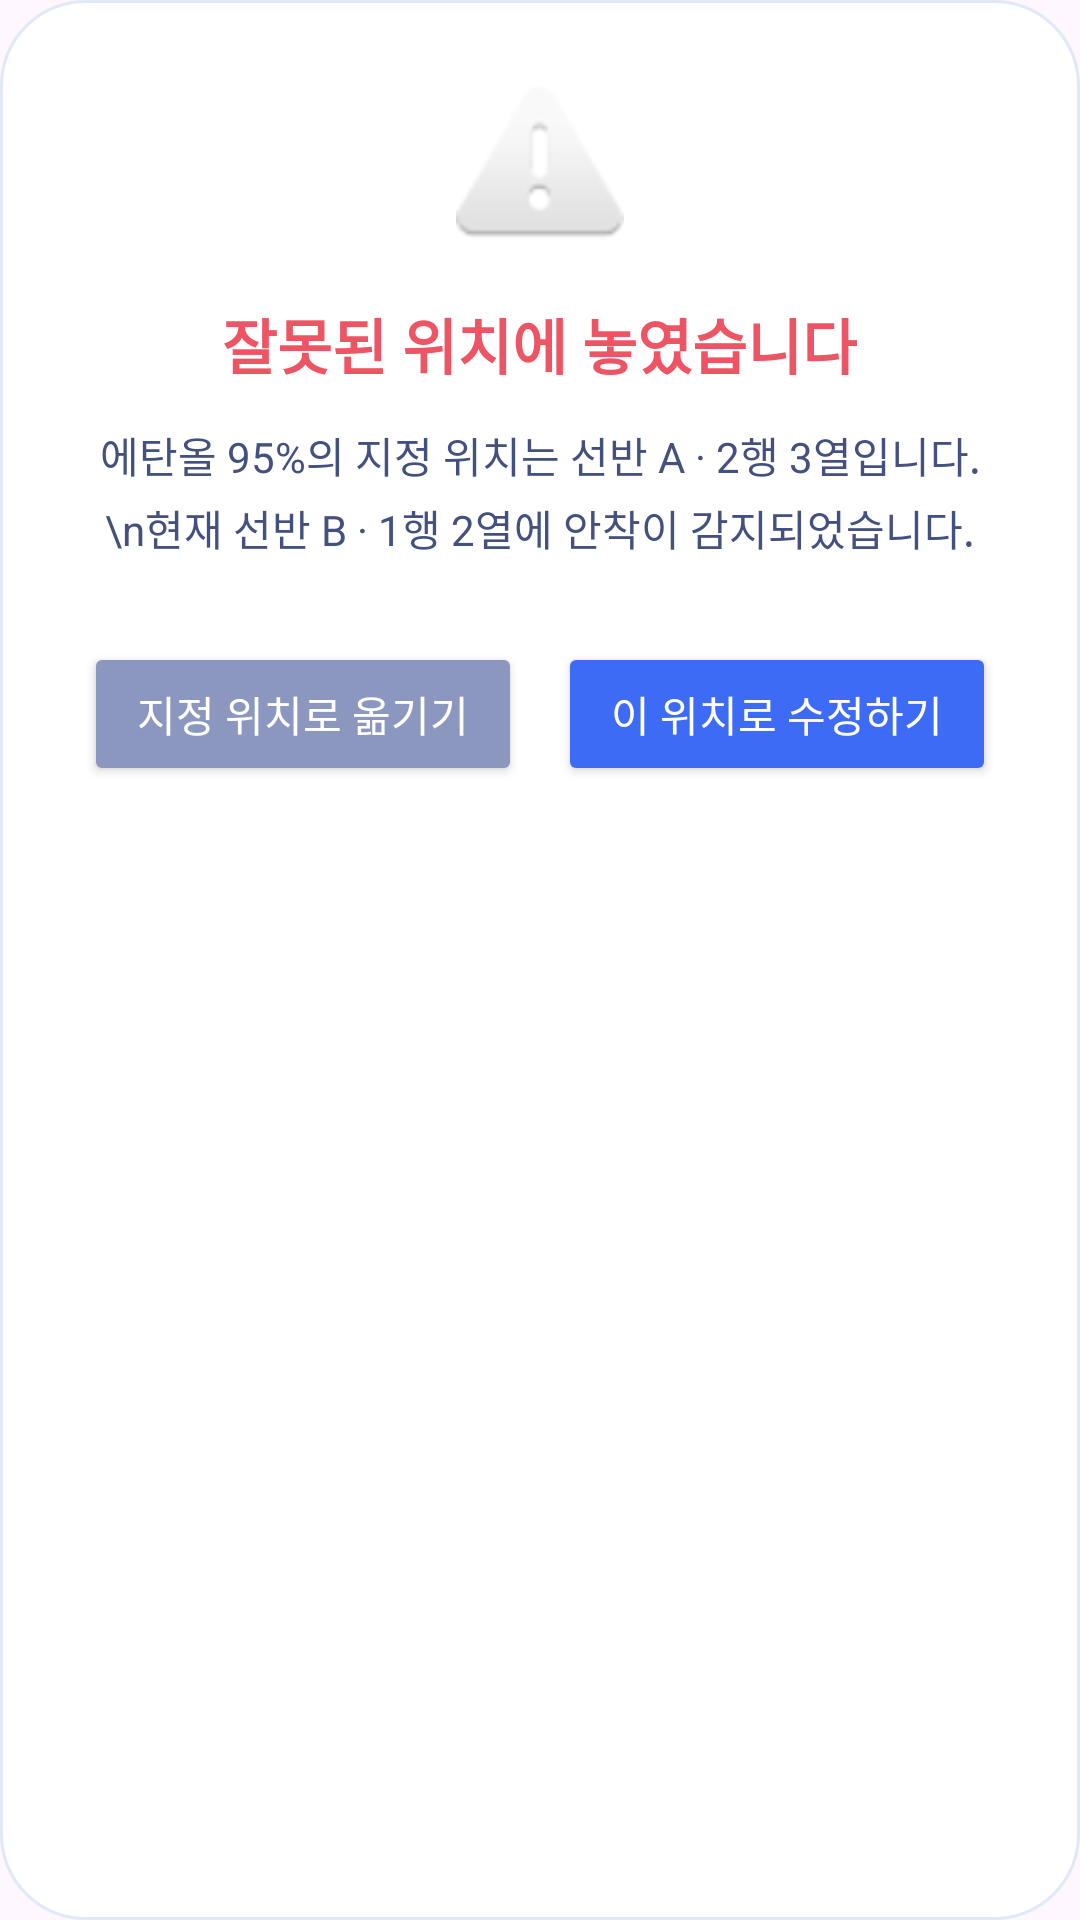

Icons on this 1080w x 1920h Android screen, each with the point to tap as (x,y):
warning icon: (540,179)
